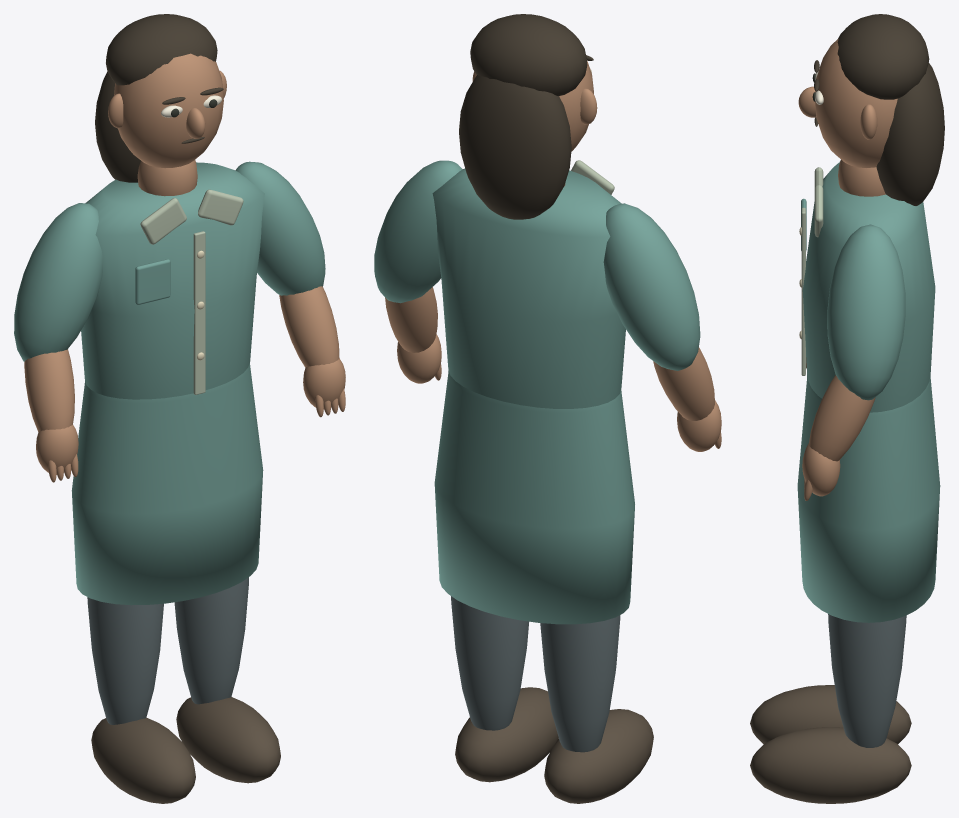
The model's file is companion-female.glb.
3 renders of one model, left to right at view 1: azimuth 30°, elevation 25°; view 2: azimuth 150°, elevation 25°; view 3: azimuth 270°, elevation 25°, orthographic. The views are drawn at different scales.
Visible parts, largest first — view 1: Long modest tunic, Shirt, Sleeve, Face, Trouser leg, Sleeve.001, Trouser leg.001, Shoe, Shoe.001, Hair cap, Forearm, Forearm.001 (+8 smaller); view 2: Long modest tunic, Shirt, Long tied hair, Sleeve, Trouser leg, Trouser leg.001, Hair cap, Sleeve.001, Shoe, Shoe.001, Forearm, Forearm.001 (+3 smaller); view 3: Long modest tunic, Shirt, Sleeve.001, Shoe.001, Trouser leg.001, Long tied hair, Hair cap, Face, Shoe, Forearm.001, Hand.001, Neck (+4 smaller).
Part boxes in pixels (box(x1,y1,x2,y2)): Long modest tunic: box(71, 363, 263, 605); Shirt: box(81, 162, 264, 399); Sleeve: box(14, 203, 102, 361); Face: box(114, 53, 223, 168); Trouser leg: box(87, 597, 163, 724); Sleeve.001: box(235, 161, 325, 295); Trouser leg.001: box(174, 577, 248, 704); Shoe: box(91, 717, 195, 803); Shoe.001: box(176, 697, 280, 783); Hair cap: box(106, 14, 217, 85); Forearm: box(24, 349, 74, 431); Forearm.001: box(279, 286, 339, 367); Long modest tunic: box(434, 370, 634, 624); Shirt: box(432, 168, 625, 408); Long tied hair: box(459, 75, 571, 219); Sleeve: box(603, 203, 700, 370); Trouser leg: box(540, 615, 620, 752); Trouser leg.001: box(451, 596, 528, 730); Hair cap: box(470, 14, 587, 95); Sleeve.001: box(374, 160, 462, 303); Shoe: box(544, 709, 653, 803); Shoe.001: box(455, 687, 558, 782); Forearm: box(653, 347, 714, 420); Forearm.001: box(385, 287, 437, 352); Long modest tunic: box(797, 374, 940, 622); Shirt: box(802, 162, 935, 412); Sleeve.001: box(827, 224, 905, 400); Shoe.001: box(750, 727, 911, 803); Trouser leg.001: box(828, 614, 906, 747); Long tied hair: box(876, 62, 944, 205); Hair cap: box(837, 14, 929, 99); Face: box(815, 39, 897, 167); Shoe: box(750, 685, 911, 744); Forearm.001: box(809, 375, 875, 461); Hand.001: box(802, 443, 840, 496); Neck: box(838, 159, 885, 196).
Size of the model in its own units: 0.756 by 1.76 by 0.41.
